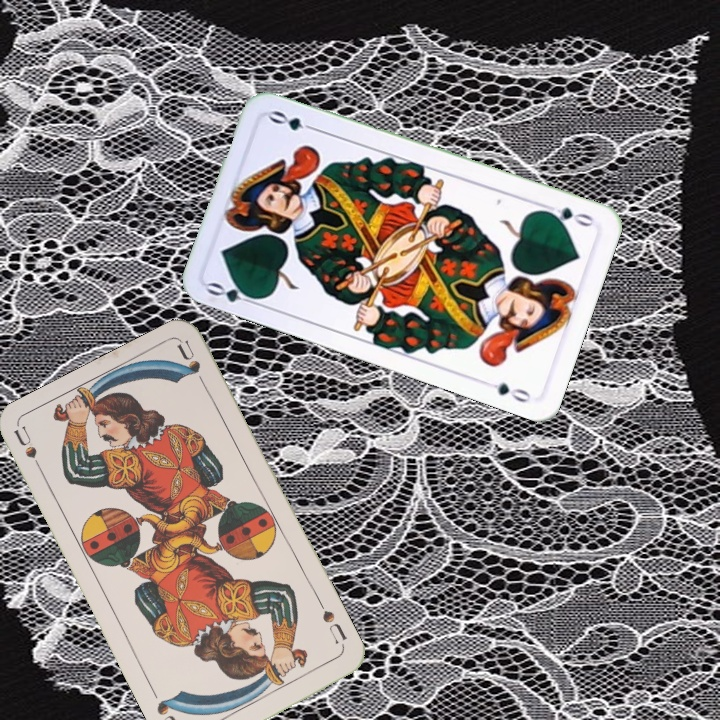GO: (203, 278, 263, 309), (538, 200, 596, 230)
SU: (10, 423, 48, 480), (318, 606, 350, 647)
